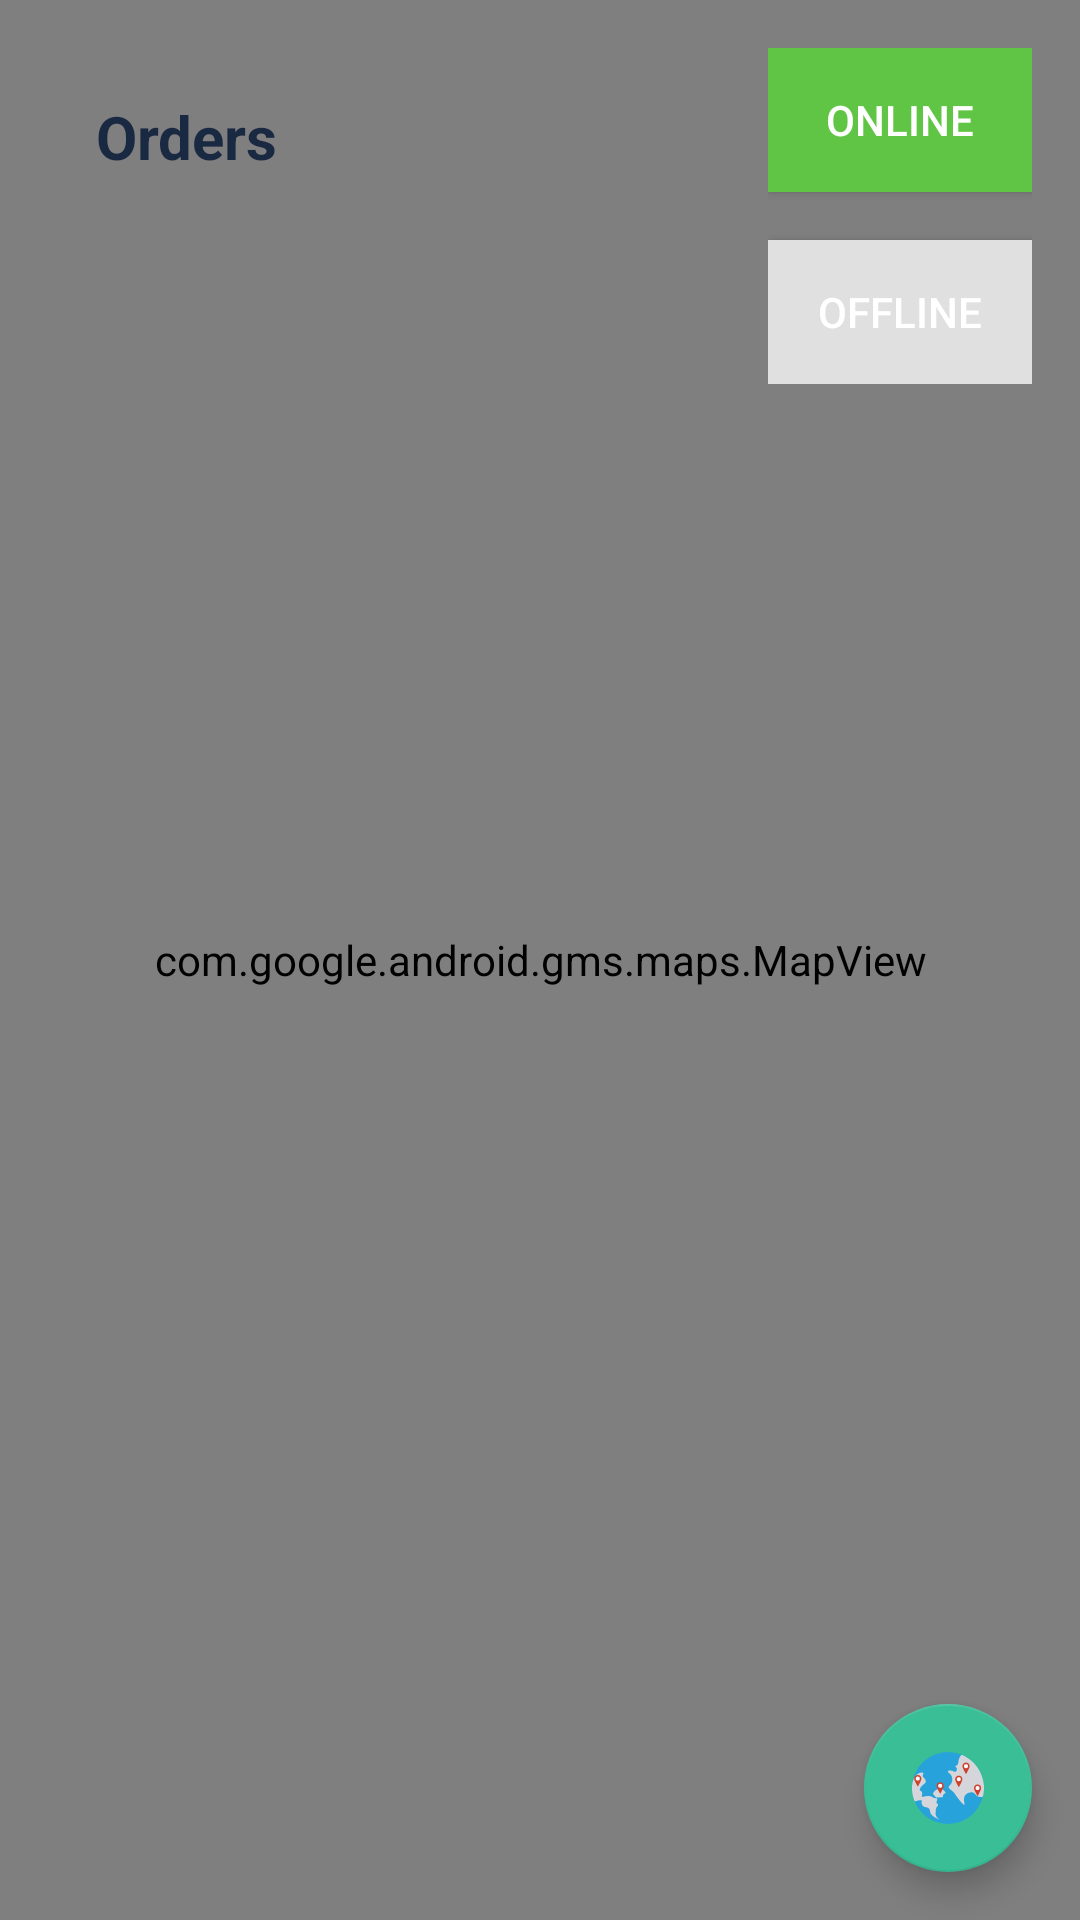

Screen size 1080×1920. Icon name, then its box in pixels as (x1, y1, x2, y2):
planet earth: (864, 1704, 1032, 1872)
